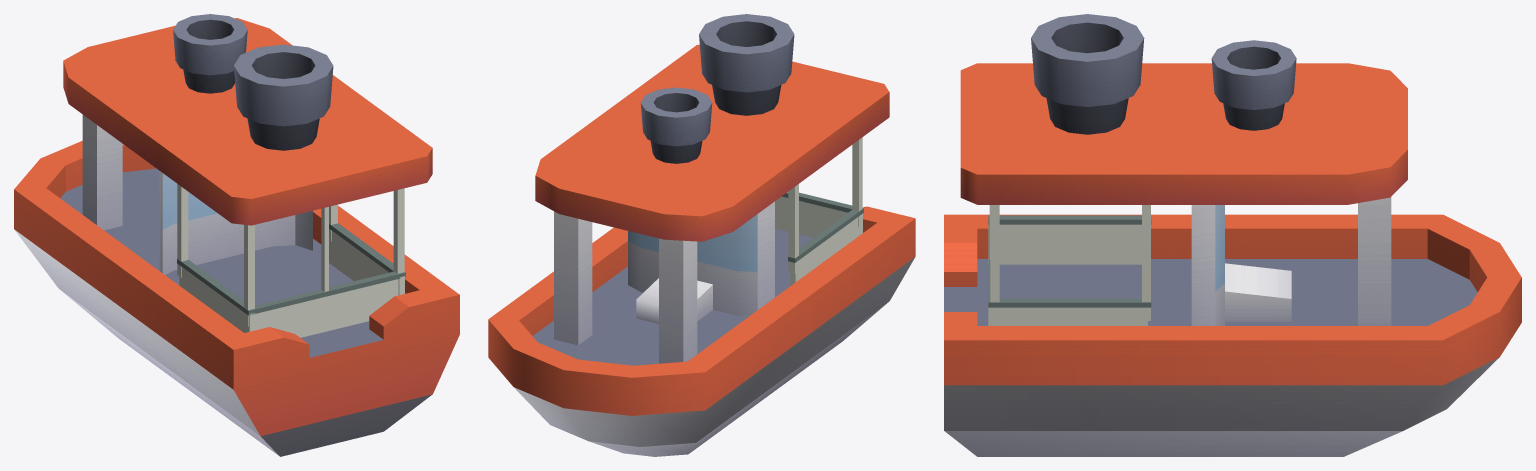
The model's file is boat-player.glb.
3 renders of one model, left to right at view 1: azimuth 30°, elevation 25°; view 2: azimuth 150°, elevation 25°; view 3: azimuth 270°, elevation 25°, orthographic. The views are drawn at different scales.
Parts seen in each view (by area): view 1: Kenney_tug_fitted_windows, cabin_front_lower, cabin_lower_side.001, cabin_lower_side, cabin_front_sill, cabin_window_post.002, cabin_window_post, cabin_window_post.001, cabin_window_sill, cabin_window_sill.001, cabin_front_mullion; view 2: Kenney_tug_fitted_windows, cabin_front_lower, cabin_lower_side, cabin_window_post.001, cabin_window_post, cabin_window_sill, cabin_front_sill; view 3: Kenney_tug_fitted_windows, cabin_lower_side, cabin_lower_side.001, cabin_window_sill.001, cabin_window_sill, cabin_window_post.002, cabin_window_post.003.
Part boxes in pixels (bbox=[...]): Kenney_tug_fitted_windows: bbox=[14, 14, 459, 456]; cabin_front_lower: bbox=[255, 279, 398, 337]; cabin_lower_side.001: bbox=[329, 231, 404, 295]; cabin_lower_side: bbox=[179, 267, 255, 332]; cabin_front_sill: bbox=[252, 271, 401, 313]; cabin_window_post.002: bbox=[393, 188, 404, 273]; cabin_window_post: bbox=[244, 225, 254, 326]; cabin_window_post.001: bbox=[177, 184, 188, 277]; cabin_window_sill: bbox=[177, 258, 256, 315]; cabin_window_sill.001: bbox=[329, 223, 405, 278]; cabin_front_mullion: bbox=[321, 207, 328, 291]; Kenney_tug_fitted_windows: bbox=[488, 14, 915, 456]; cabin_front_lower: bbox=[775, 196, 847, 237]; cabin_lower_side: bbox=[790, 214, 862, 285]; cabin_window_post.001: bbox=[788, 184, 798, 273]; cabin_window_post: bbox=[852, 137, 862, 226]; cabin_window_sill: bbox=[788, 208, 863, 262]; cabin_front_sill: bbox=[782, 192, 852, 212]; Kenney_tug_fitted_windows: bbox=[944, 14, 1521, 456]; cabin_lower_side: bbox=[988, 224, 1141, 264]; cabin_lower_side.001: bbox=[988, 307, 1147, 325]; cabin_window_sill.001: bbox=[988, 298, 1151, 307]; cabin_window_sill: bbox=[988, 215, 1151, 224]; cabin_window_post.002: bbox=[990, 205, 999, 320]; cabin_window_post.003: bbox=[1142, 205, 1150, 320].
Size of the model in its own units: 1.79 by 2.59 by 3.47.
3 materials, 1 textured.
